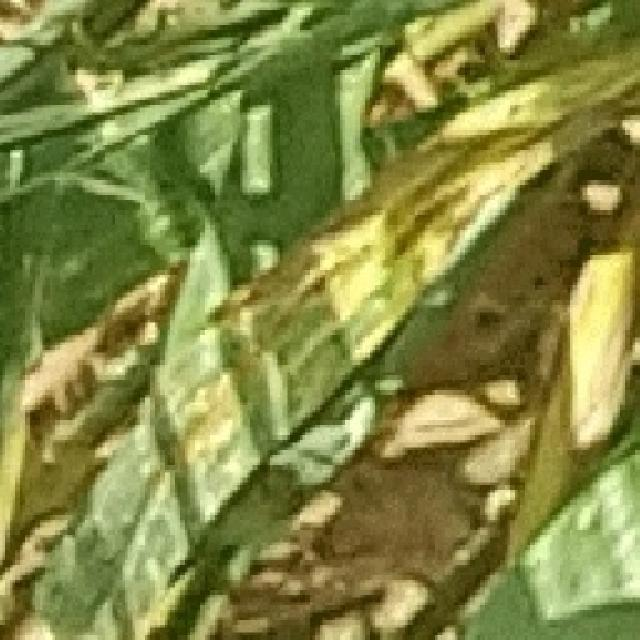Healthy Wheat: (3, 3, 635, 635)
